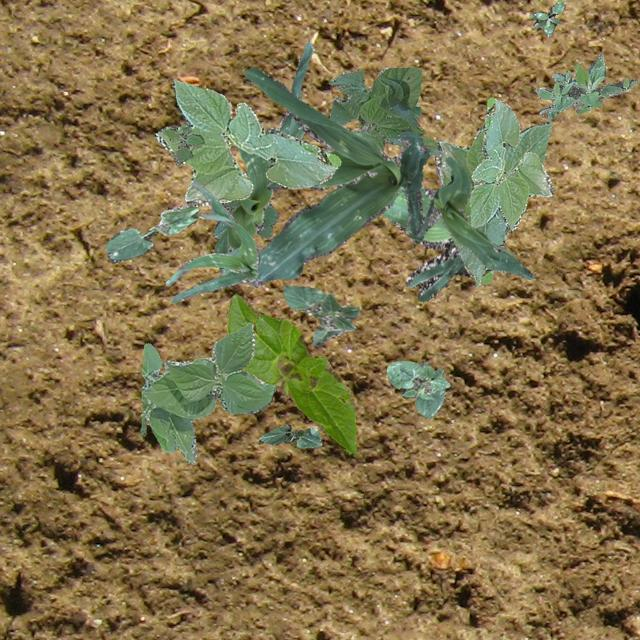crop: (242, 66, 430, 286), (154, 78, 340, 205), (214, 42, 312, 274), (226, 292, 356, 452), (138, 322, 274, 462), (435, 120, 551, 284), (414, 156, 536, 278), (380, 158, 480, 302), (469, 96, 554, 230), (165, 182, 256, 302), (328, 66, 440, 154), (104, 205, 198, 262), (282, 284, 358, 346), (386, 360, 448, 418), (258, 424, 322, 446)
weed: (534, 53, 636, 119), (212, 198, 278, 238), (162, 124, 204, 164), (530, 0, 564, 35)
